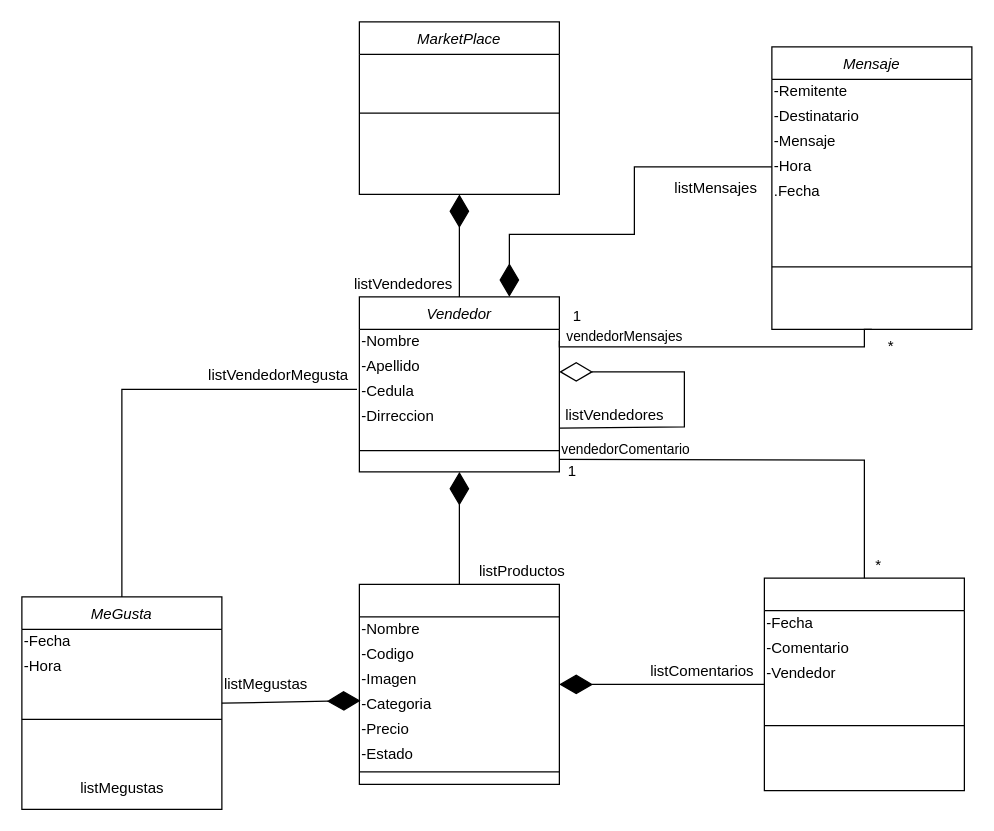
The diagram is 994 pixels wide and 831 high, and some of its shapes have lost their labels. Each missing label, with the box of its shape:
Comentarios: (763, 577, 964, 791)
Producto: (358, 583, 559, 784)
